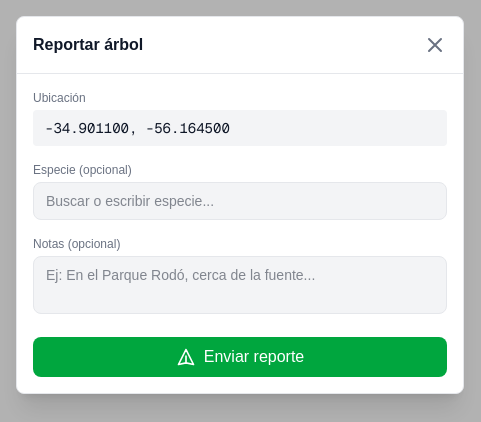
Test case: ReportModal › selects species from dropdown
Type "Para" into the field with placeholder "Buscar o escribir especie..." at (240, 201), box [33,182,447,220]
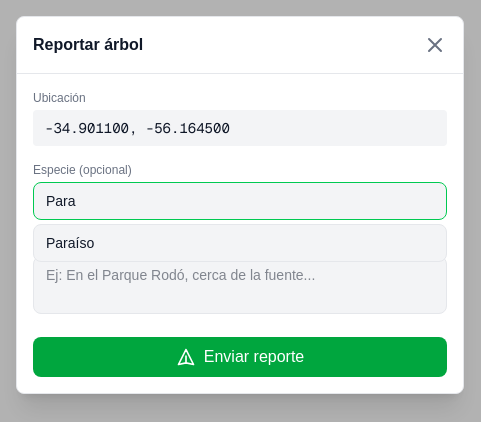
Click the button "Paraíso" at (70, 243), box [34,225,446,261]
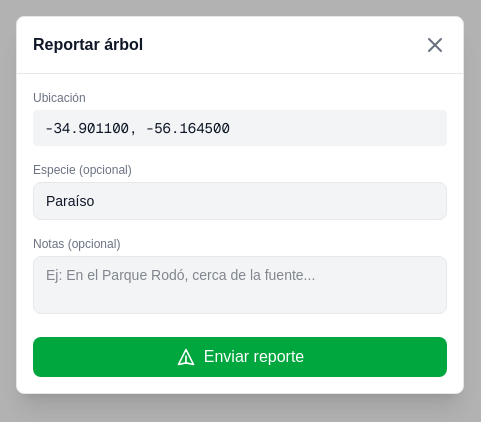
Now the field with placeholder "Buscar o escribir especie..." holds "Paraíso", box [33,182,447,220]
